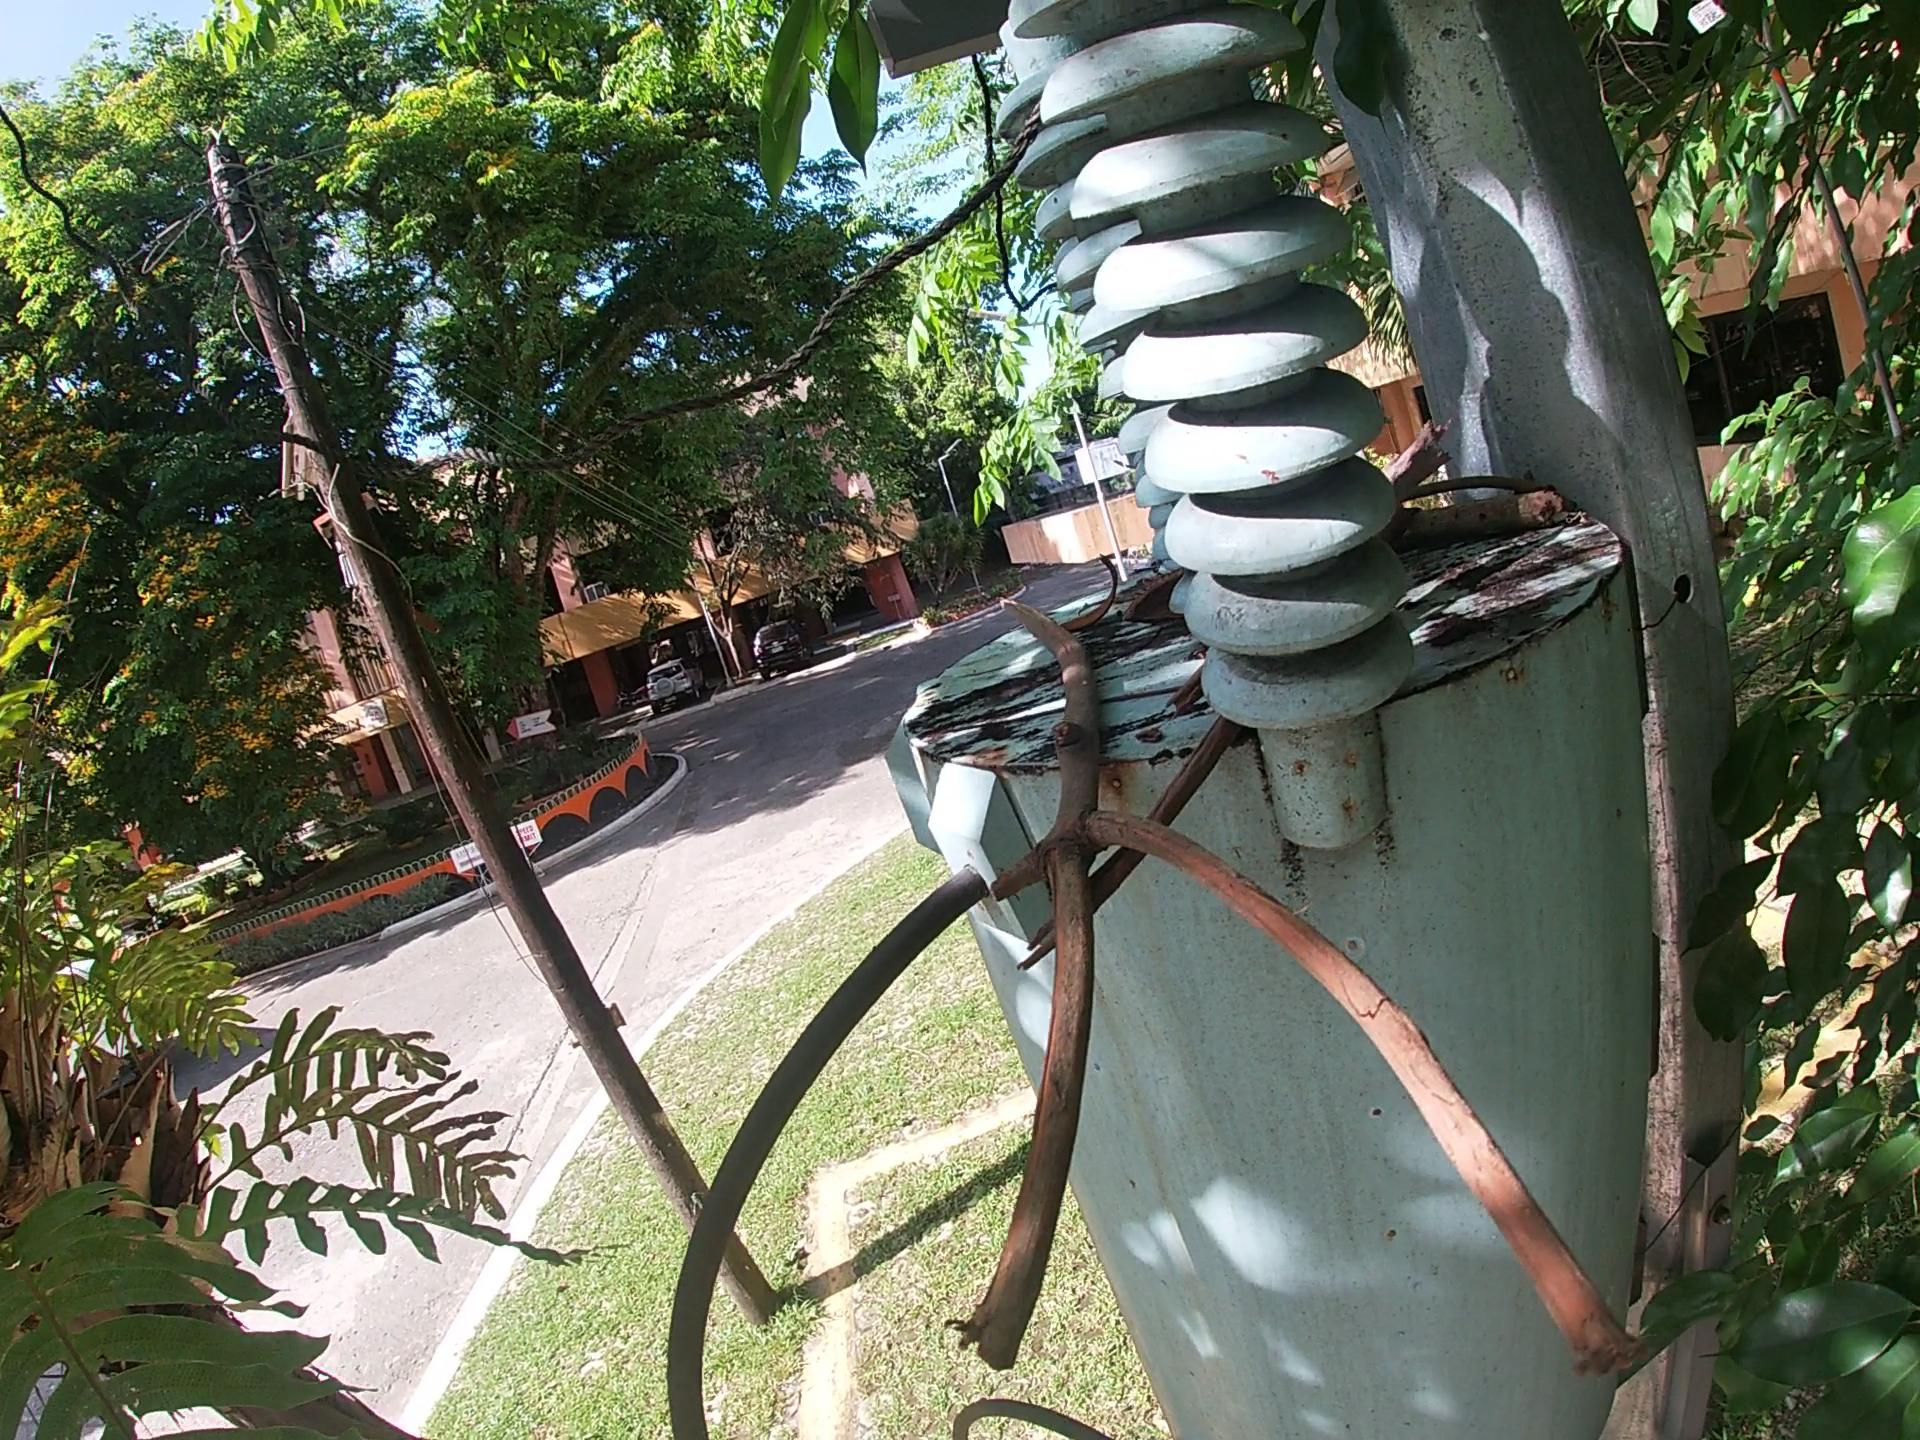mahogany fruit: (1058, 552, 1128, 638), (1120, 575, 1191, 635)
tree branch: (989, 585, 1658, 1386), (1008, 663, 1261, 988), (1380, 478, 1577, 555)
